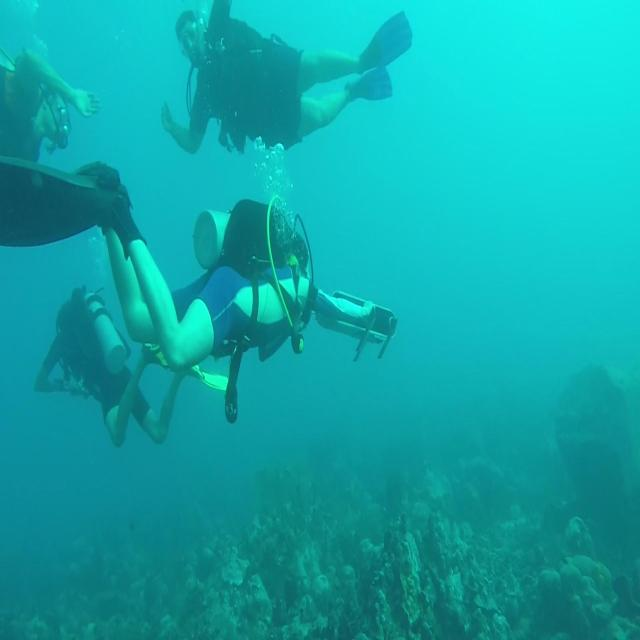human: (160, 0, 413, 156), (34, 283, 185, 449), (192, 194, 310, 358), (0, 44, 101, 164)
